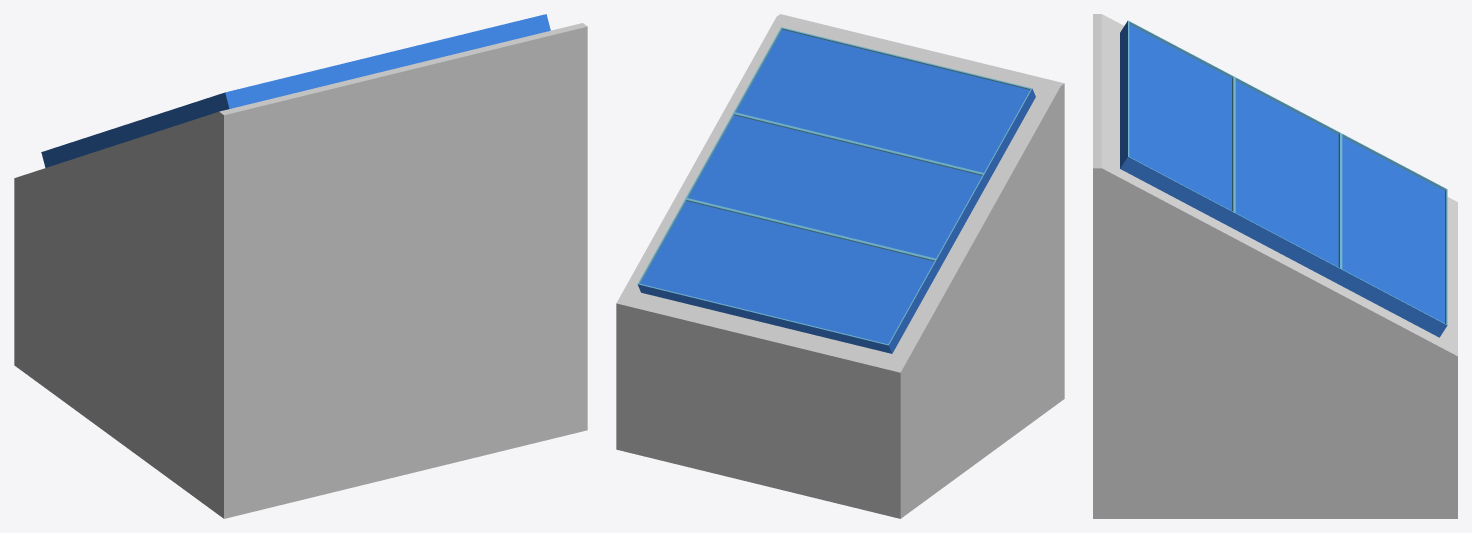
The model's file is building_1x1_12_r.glb.
3 renders of one model, left to right at view 1: azimuth 30°, elevation 25°; view 2: azimuth 150°, elevation 25°; view 3: azimuth 270°, elevation 25°, orthographic. The views are drawn at different scales.
Parts seen in each view (by area): view 1: ThirdFloor; view 2: ThirdFloor; view 3: ThirdFloor.
Boxes of the visible parts, <box> form: ThirdFloor: <box>14,14,587,518</box>; ThirdFloor: <box>616,14,1064,518</box>; ThirdFloor: <box>1093,14,1457,518</box>.
Bounding box in the file's own units: 1.51 × 1.61 × 1.51.
